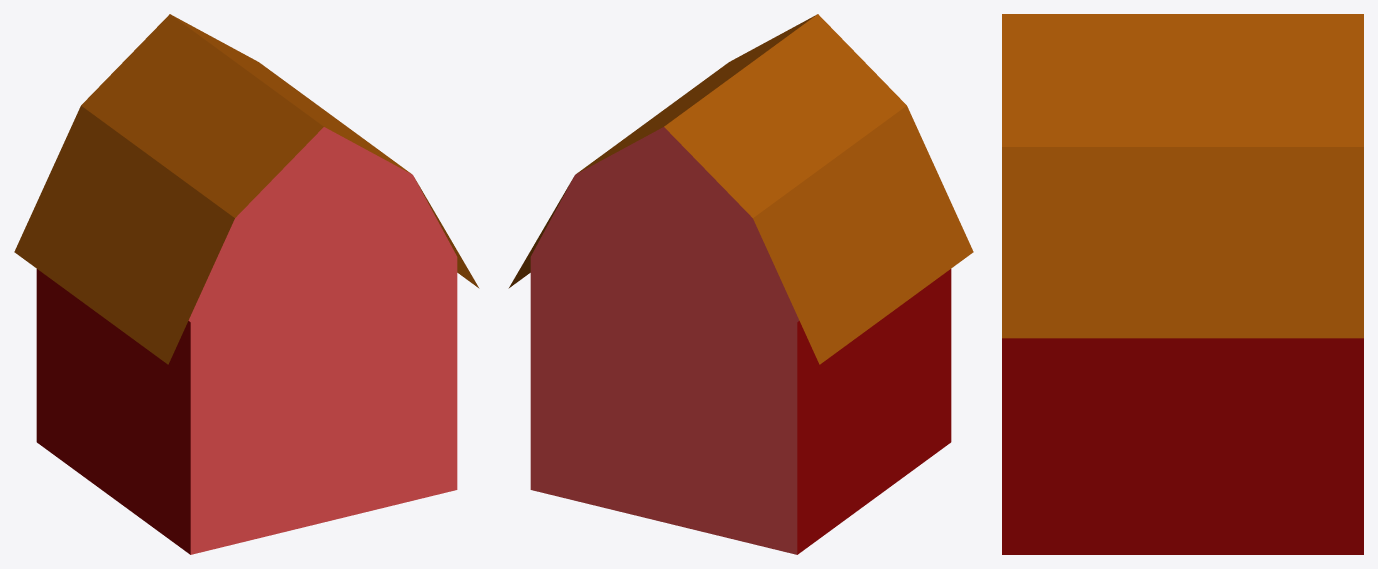
Rendered from barn.obj.
The picture shows the model from 3 angles, left to right: view 1: azimuth 30°, elevation 25°; view 2: azimuth 150°, elevation 25°; view 3: azimuth 270°, elevation 25°; orthographic projection. The views are drawn at different scales.
Bounding box in the file's own units: 350 × 425 × 300.
